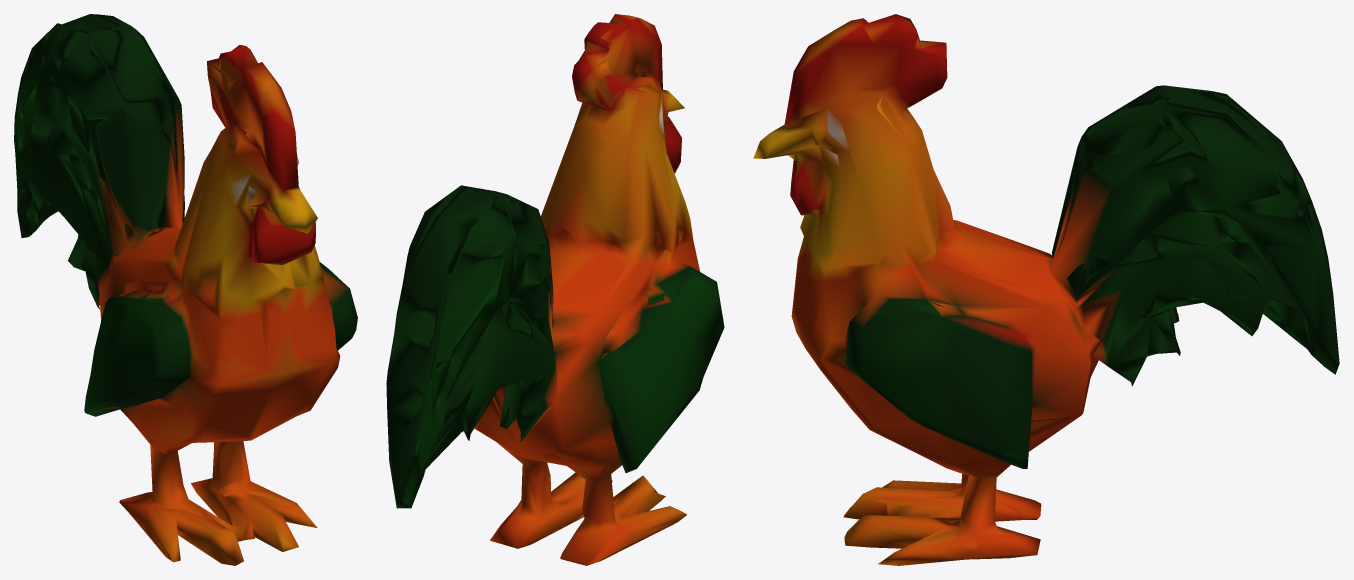
Rendered from gen3d-rooster-lod0.glb.
3 renders of one model, left to right at view 1: azimuth 30°, elevation 25°; view 2: azimuth 150°, elevation 25°; view 3: azimuth 270°, elevation 25°, orthographic. The views are drawn at different scales.
Parts seen in each view (by area): view 1: part_0; view 2: part_0; view 3: part_0.
Part boxes in pixels (box(x1,y1,x2,y2)): part_0: box(14, 14, 357, 565); part_0: box(386, 14, 724, 565); part_0: box(753, 14, 1339, 565).
Size of the model in its own units: 0.4532 by 0.9994 by 1.03.
